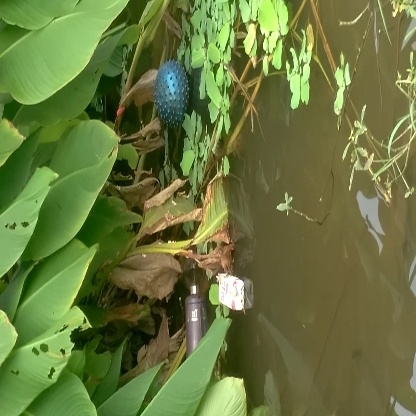ball: (150, 56, 198, 133)
bottle: (180, 281, 208, 361)
milk-box: (211, 271, 252, 316)
